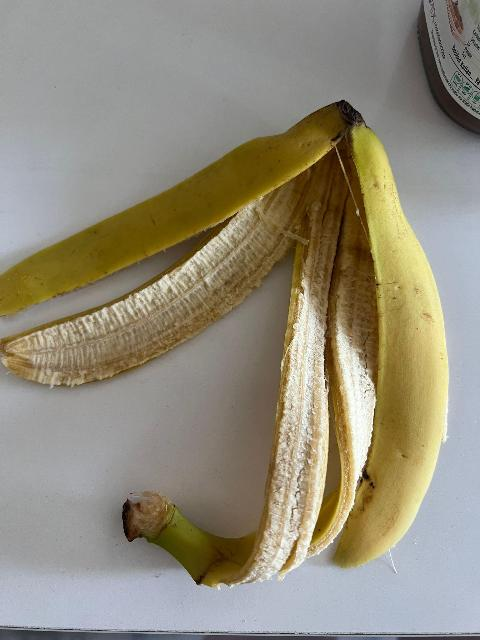Organik: (0, 114, 458, 603)
